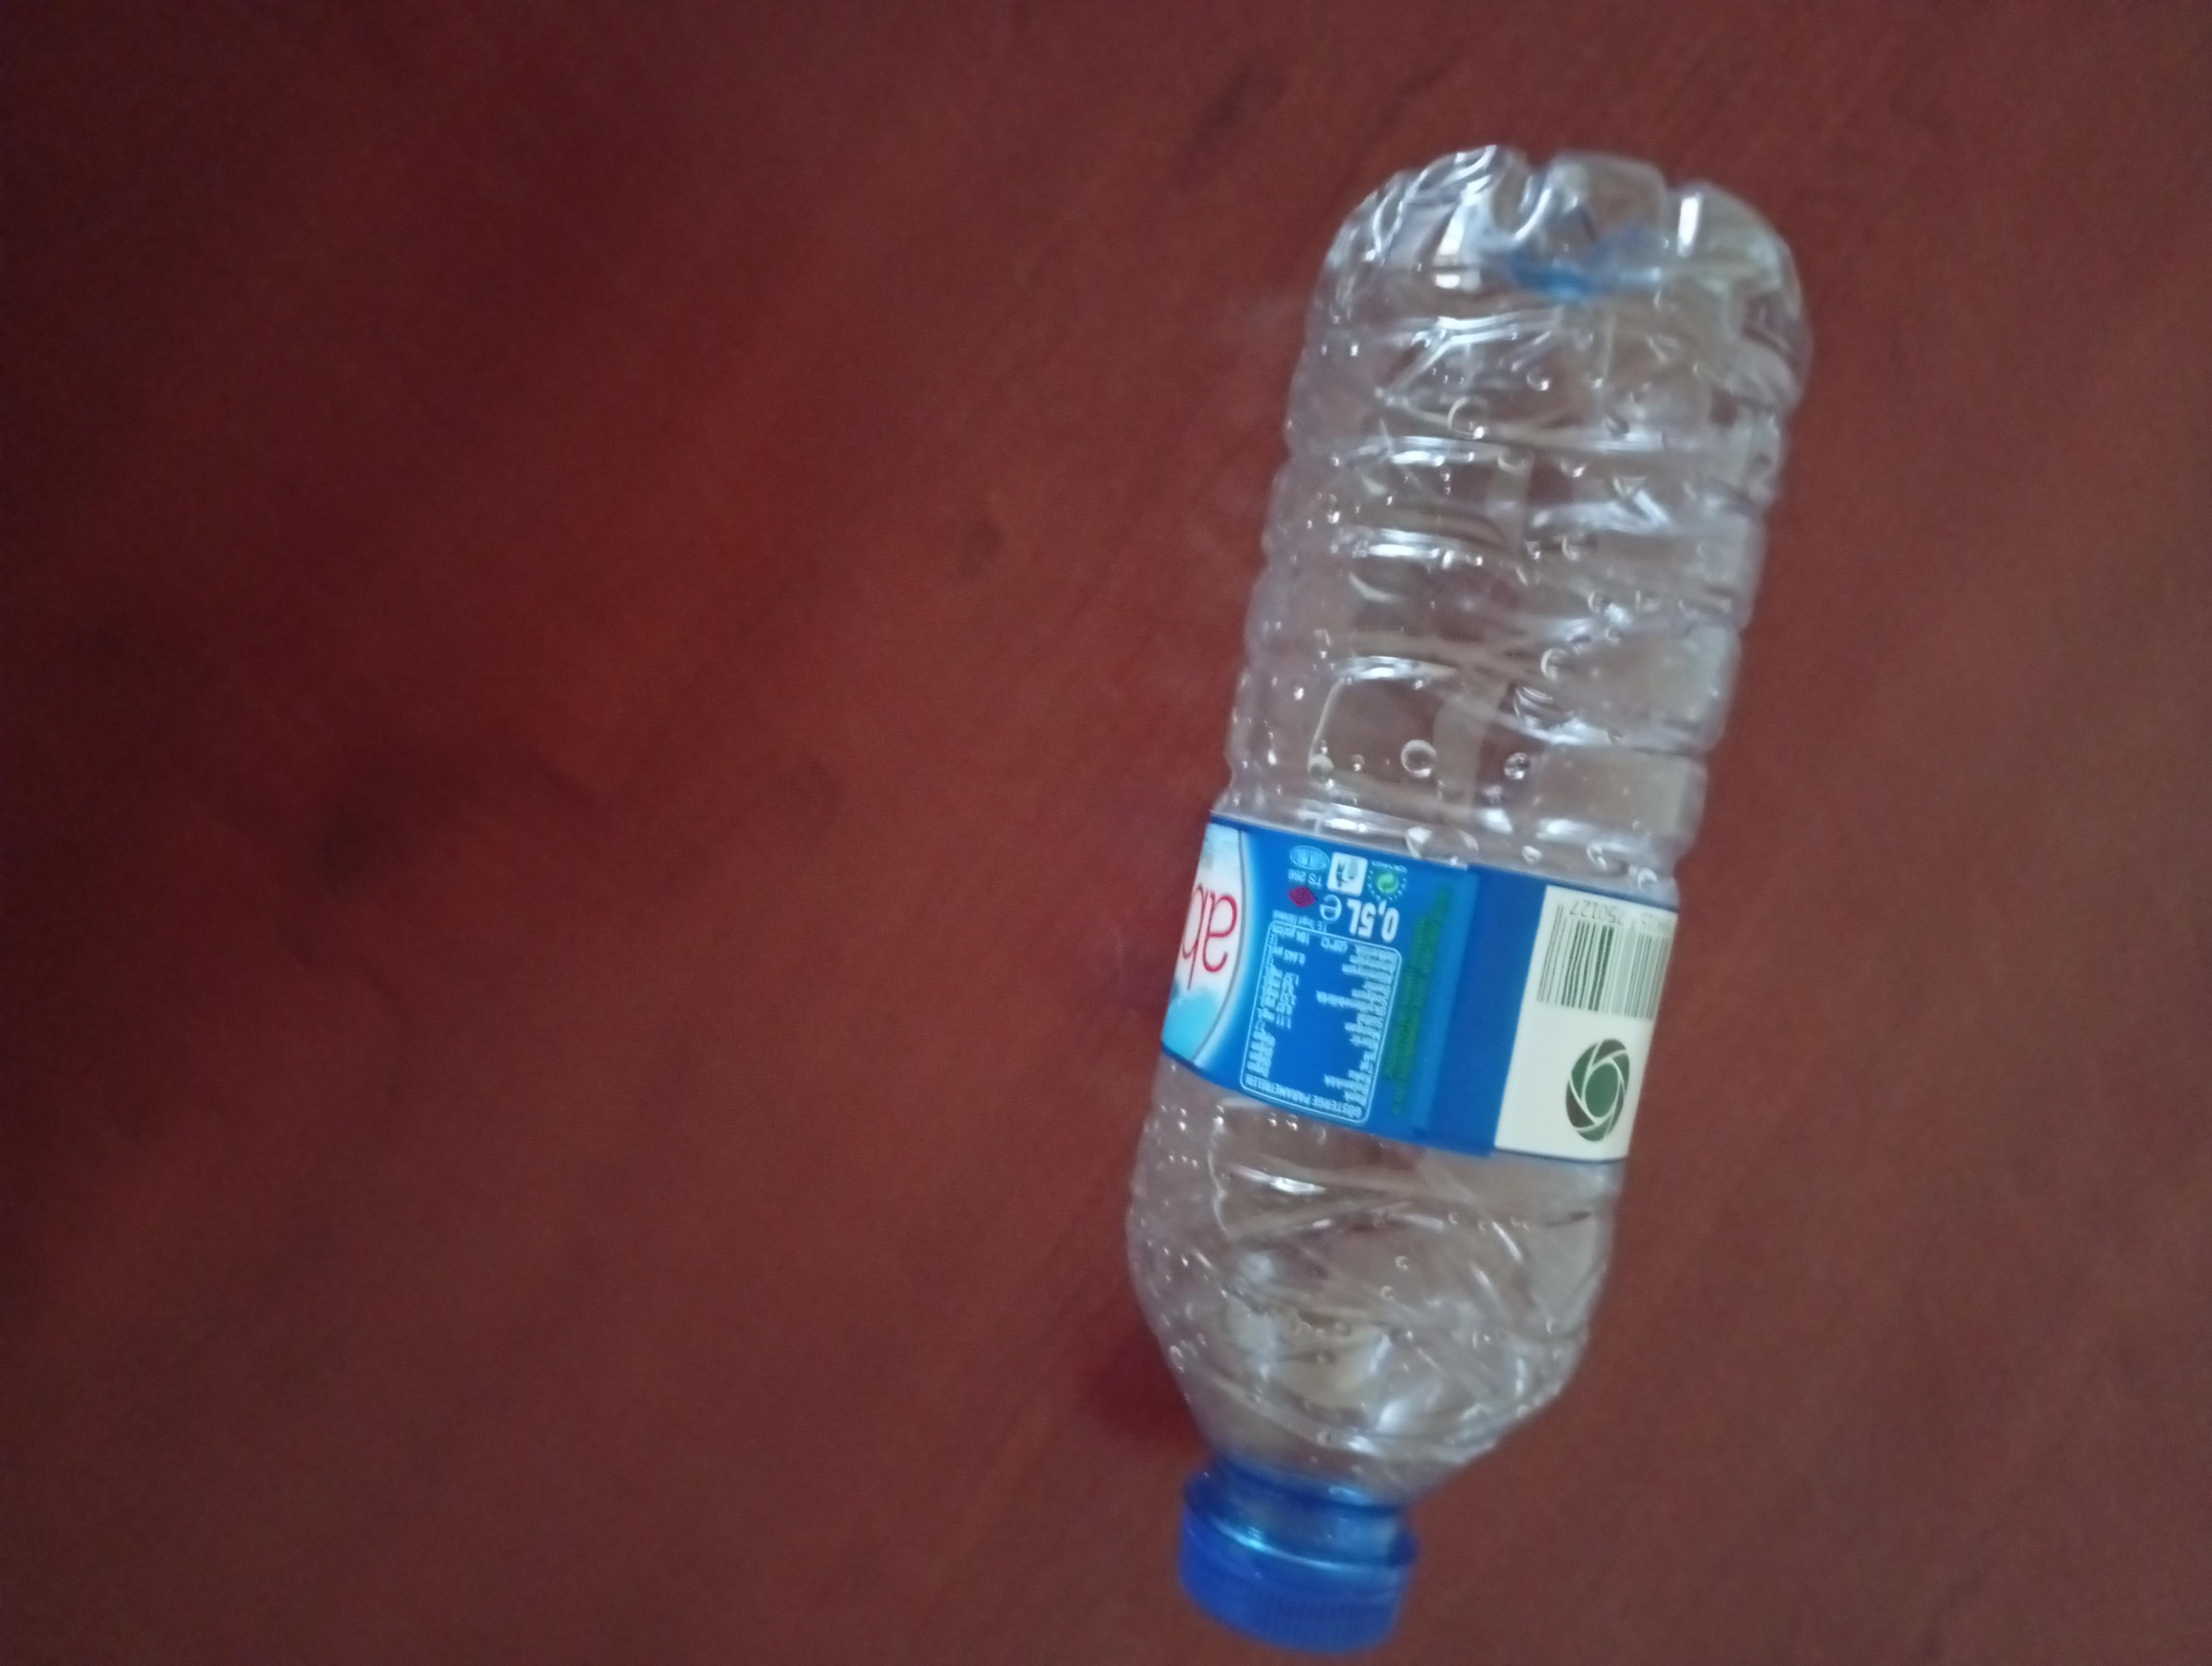etiketli: (1112, 131, 1936, 1666)
